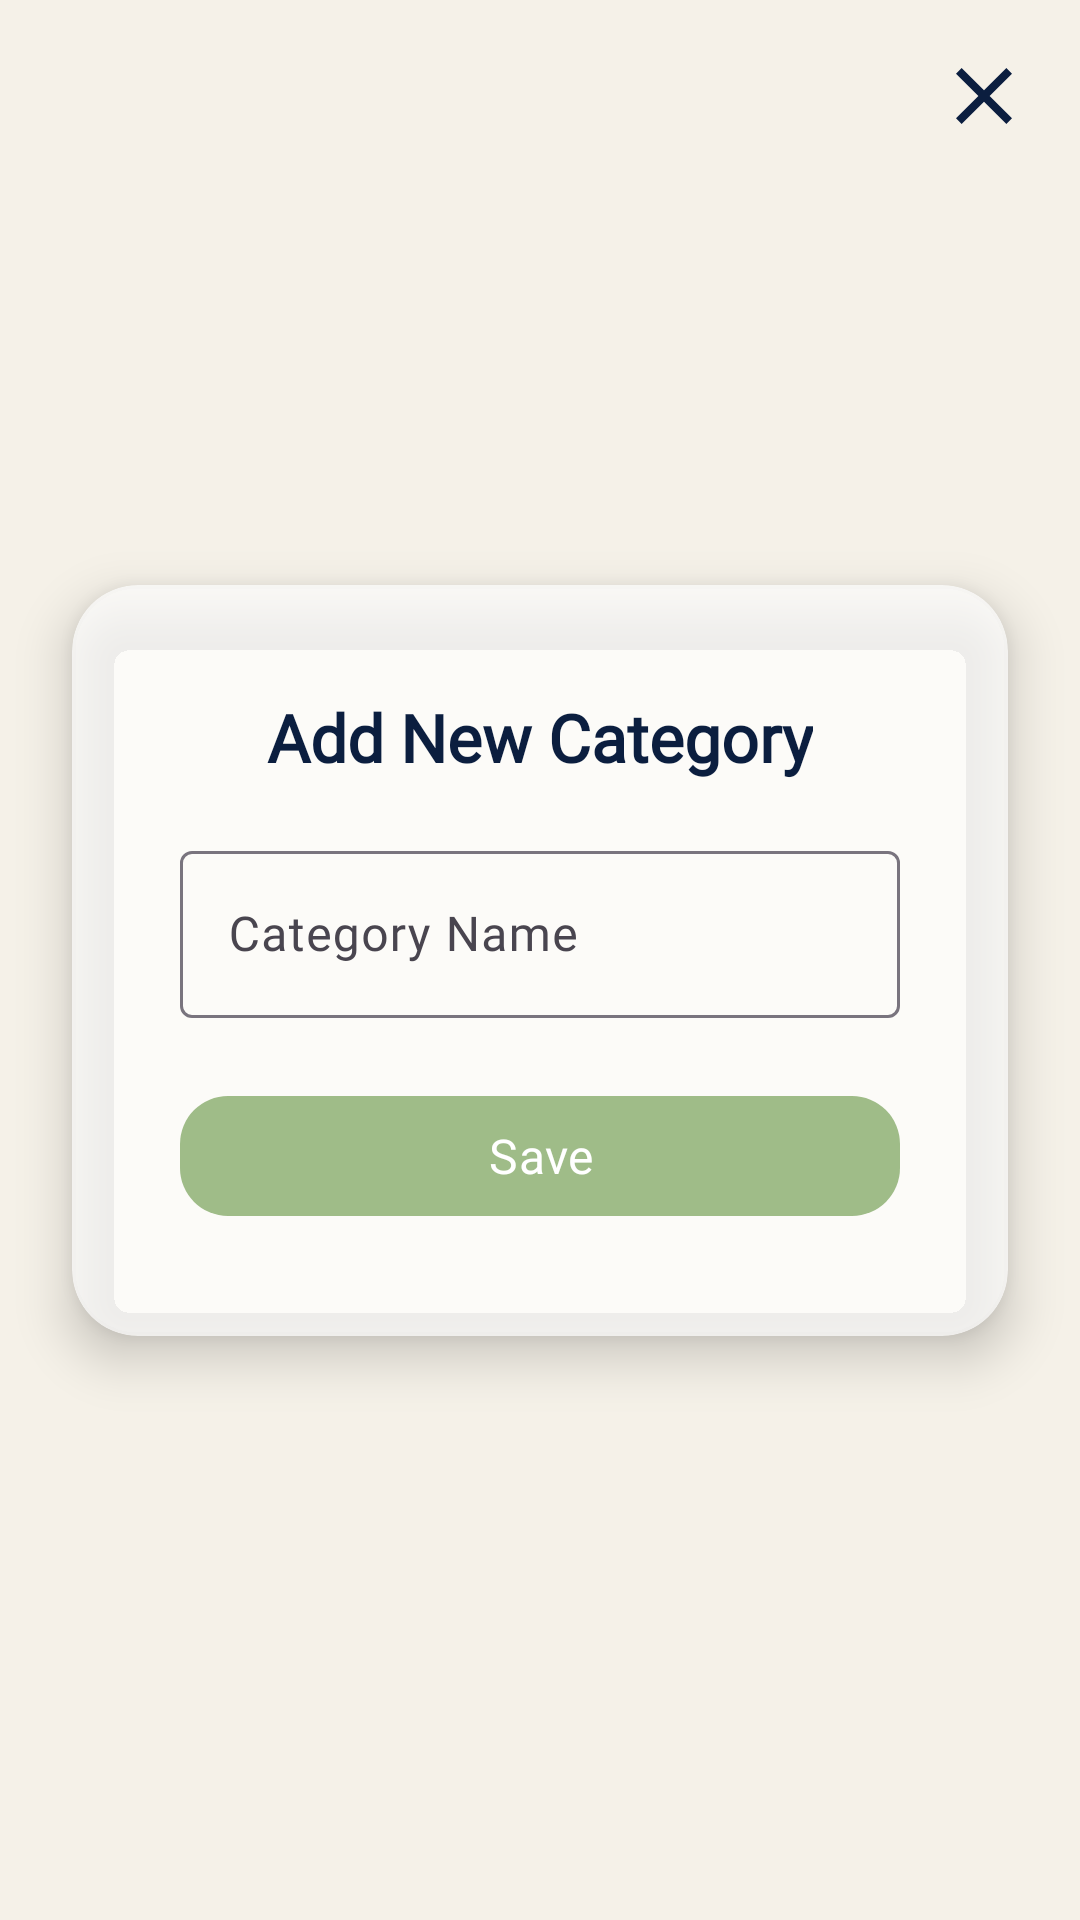

Where icons sit on this 1080px x 1920px app screen, as (x1, y1, x2, y2):
Close: (956, 68, 1012, 124)
